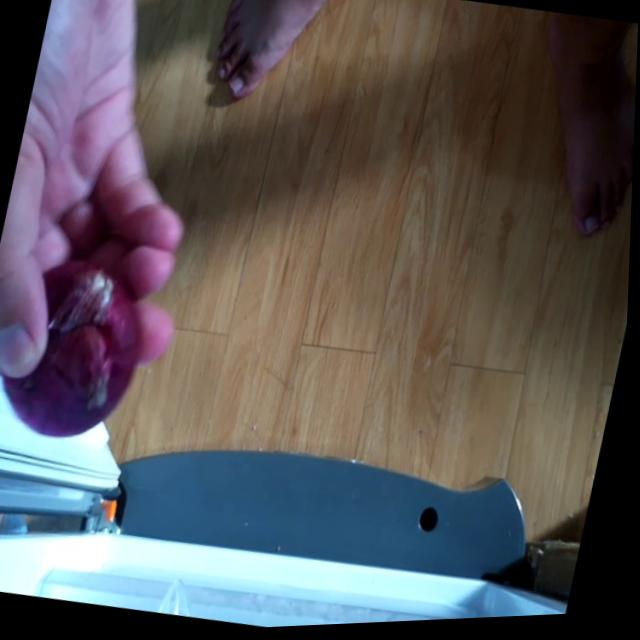onion: (0, 251, 159, 450)
